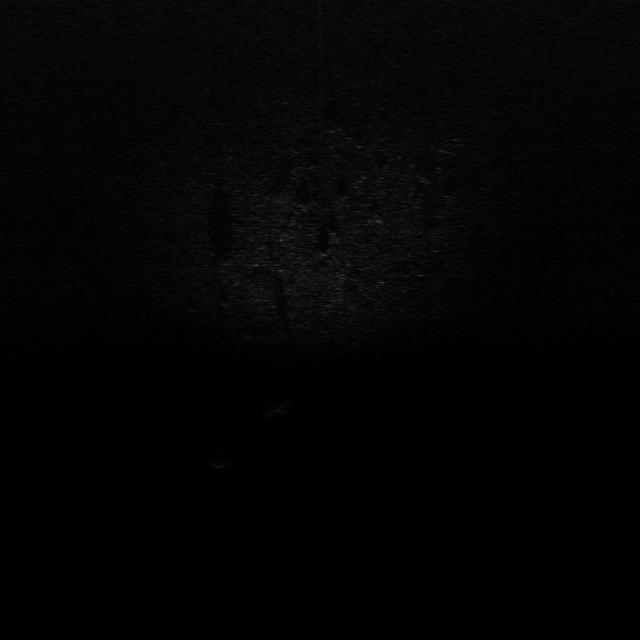ball: (207, 452, 236, 472)
human body: (264, 395, 292, 421)
